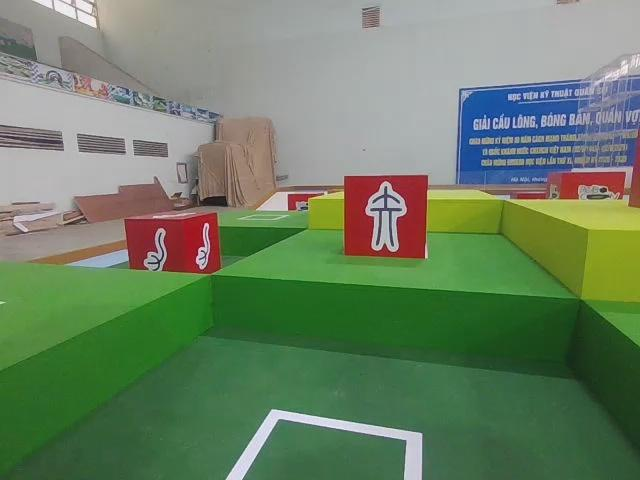R2 Fake: (341, 172, 430, 259)
R2 Real: (121, 208, 226, 276)
